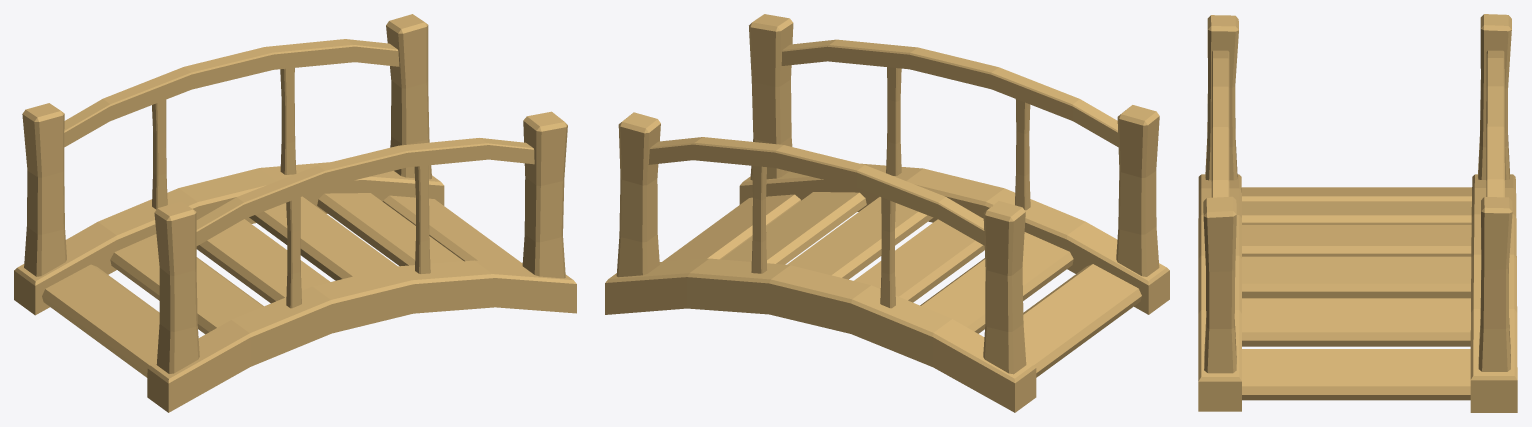
The model's file is bridge.01.glb.
3 views of the same model, side by side, from view 1: azimuth 30°, elevation 25°; view 2: azimuth 150°, elevation 25°; view 3: azimuth 270°, elevation 25° (orthographic). The views are drawn at different scales.
Parts seen in each view (by area): view 1: Cube.230; view 2: Cube.230; view 3: Cube.230.
Part boxes in pixels (left/top/right/bottom): Cube.230: left=14, top=14, right=576, bottom=412; Cube.230: left=605, top=14, right=1169, bottom=412; Cube.230: left=1198, top=14, right=1517, bottom=412.
Bounding box in the file's own units: 1.19 × 0.5532 × 0.7835.
1 material, 1 textured.
